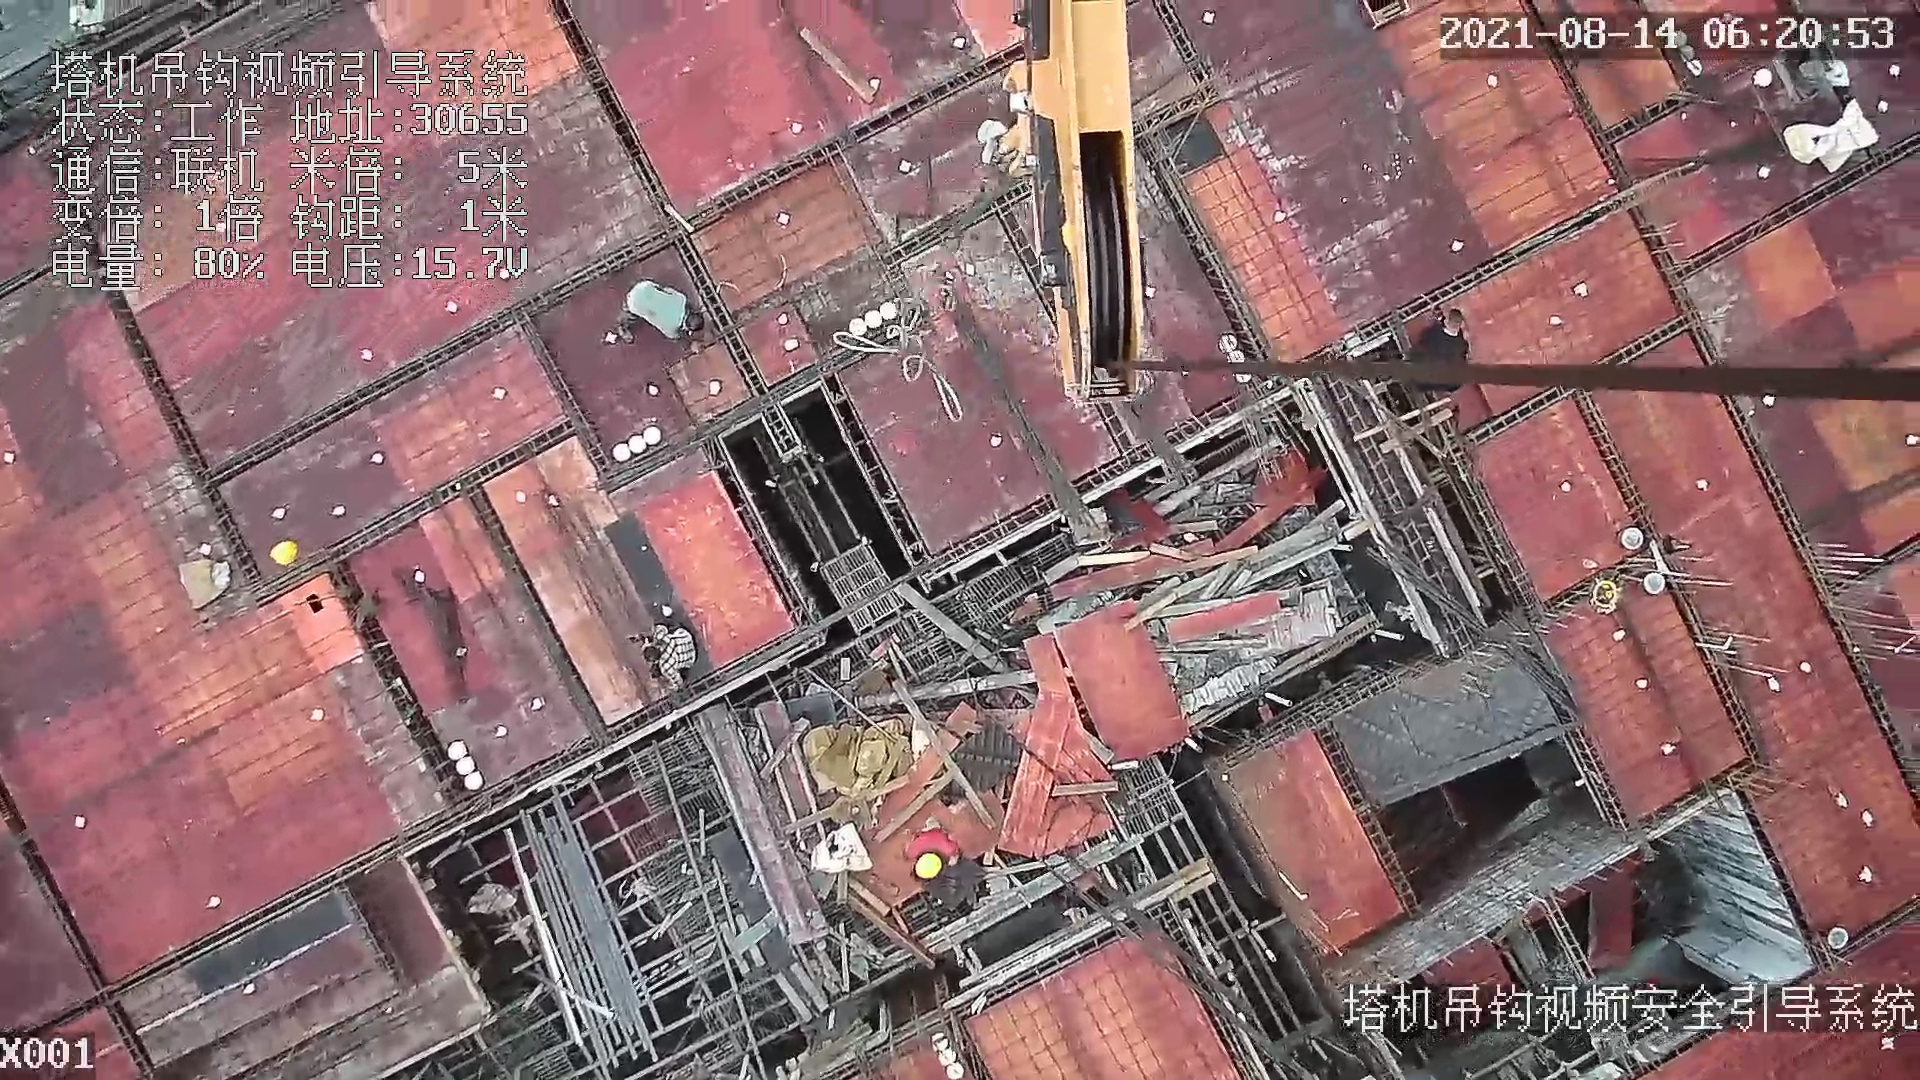helmet: (270, 539, 300, 567), (917, 851, 944, 880)
hook: (977, 1, 1154, 404)
person: (611, 279, 706, 343), (624, 619, 700, 695), (1409, 309, 1472, 393), (894, 823, 960, 878)
